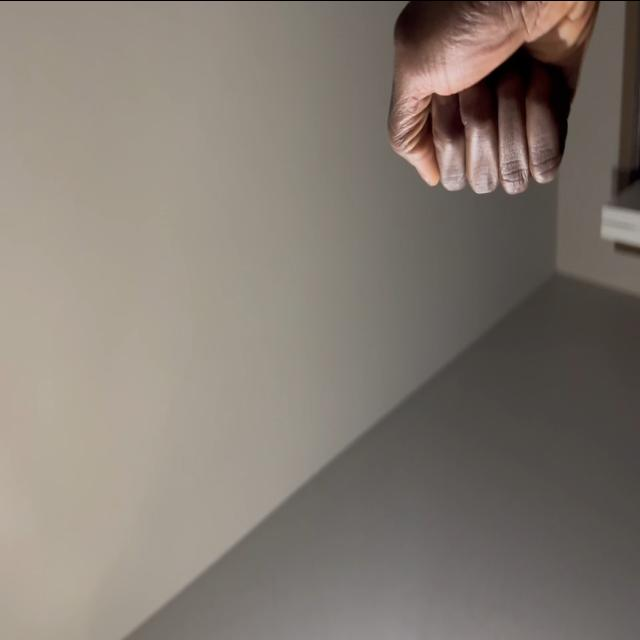Rock: (382, 0, 595, 200)
